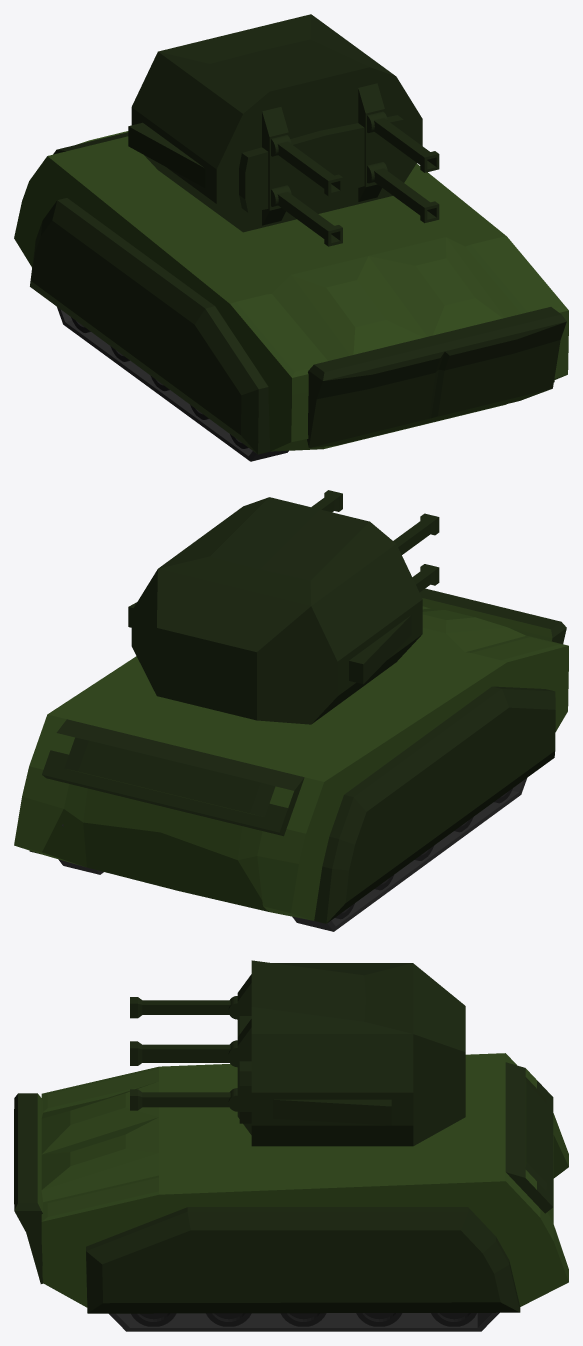
The model's file is tier3.obj.
The picture shows the model from 3 angles, top to bottom: view 1: azimuth 30°, elevation 25°; view 2: azimuth 150°, elevation 25°; view 3: azimuth 270°, elevation 25°; orthographic projection. The views are drawn at different scales.
Visible parts, largest first — view 1: Body9_Cube.068, Turret9_Cube.040, Bottom_Main_Gun9_Cube.042, Top_Main_Gun9_Cube.043, Tracks9_Cube.066; view 2: Body9_Cube.068, Turret9_Cube.040, Tracks9_Cube.066, Top_Main_Gun9_Cube.043; view 3: Body9_Cube.068, Turret9_Cube.040, Tracks9_Cube.066, Top_Main_Gun9_Cube.043, Road_Wheels9_Cube.067, Bottom_Main_Gun9_Cube.042.
Boxes of the visible parts, <box> form: Body9_Cube.068: <box>14,131,568,454</box>; Turret9_Cube.040: <box>128,14,422,232</box>; Bottom_Main_Gun9_Cube.042: <box>271,162,439,246</box>; Top_Main_Gun9_Cube.043: <box>271,111,439,196</box>; Tracks9_Cube.066: <box>57,307,288,461</box>; Body9_Cube.068: <box>14,588,568,923</box>; Turret9_Cube.040: <box>128,497,422,724</box>; Tracks9_Cube.066: <box>58,778,526,931</box>; Top_Main_Gun9_Cube.043: <box>311,490,439,554</box>; Body9_Cube.068: <box>14,1053,568,1313</box>; Turret9_Cube.040: <box>237,960,465,1146</box>; Tracks9_Cube.066: <box>109,1312,499,1331</box>; Top_Main_Gun9_Cube.043: <box>130,996,237,1063</box>; Road_Wheels9_Cube.067: <box>131,1313,476,1326</box>; Bottom_Main_Gun9_Cube.042: <box>130,1059,237,1111</box>.
Bounding box in the file's own units: 4.09 × 3.74 × 6.59.
